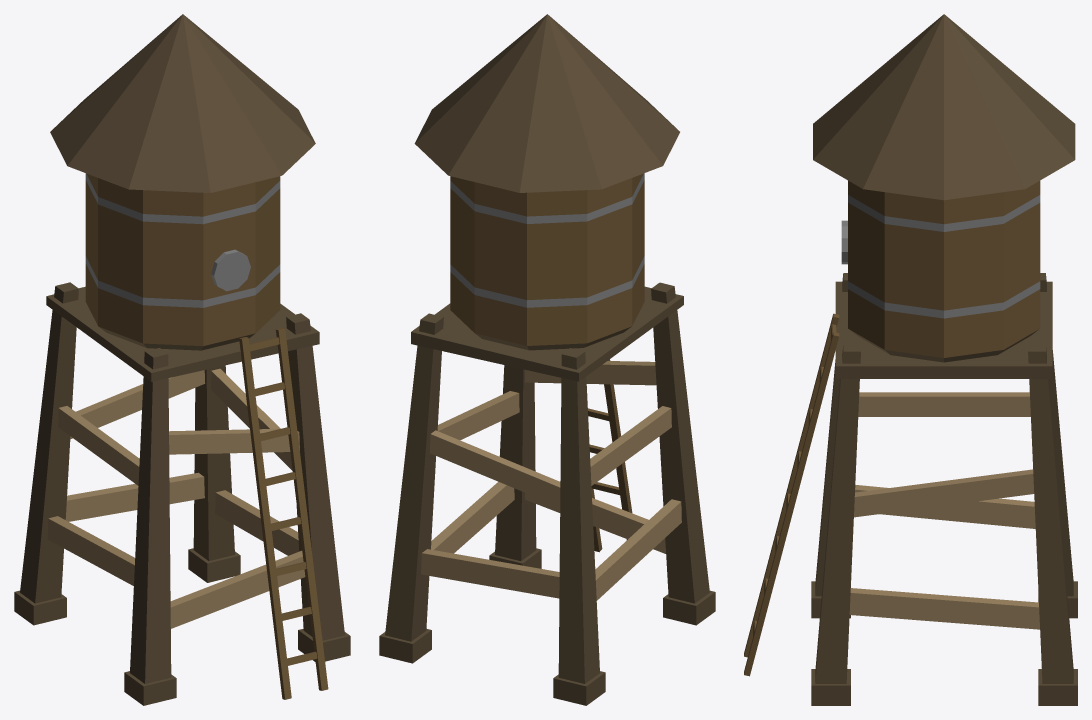
File: model_polytope_water_tower.fbx
3 renders of one model, left to right at view 1: azimuth 30°, elevation 25°; view 2: azimuth 150°, elevation 25°; view 3: azimuth 270°, elevation 25°, orthographic. The views are drawn at different scales.
Parts seen in each view (by area): view 1: model_polytope_water_tower; view 2: model_polytope_water_tower; view 3: model_polytope_water_tower.
Part boxes in pixels (bbox=[...]): model_polytope_water_tower: bbox=[14, 14, 350, 705]; model_polytope_water_tower: bbox=[379, 14, 715, 705]; model_polytope_water_tower: bbox=[744, 14, 1077, 705].
Bounding box in the file's own units: 528 × 1351 × 639.
